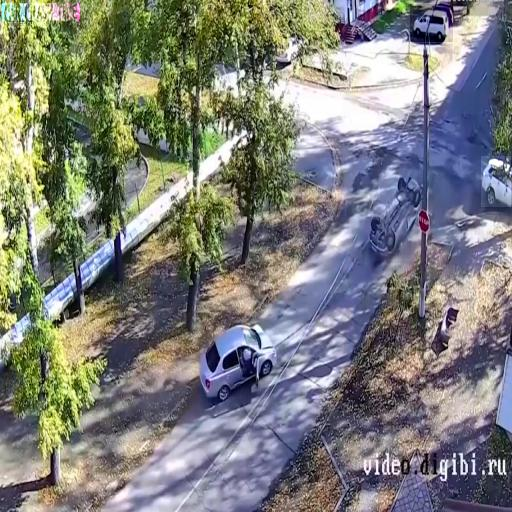小汽车: (200, 328, 276, 394), (372, 180, 420, 261), (410, 4, 453, 42), (481, 156, 511, 207)
